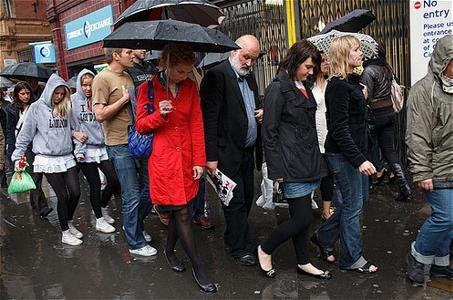person: (136, 47, 220, 293)
